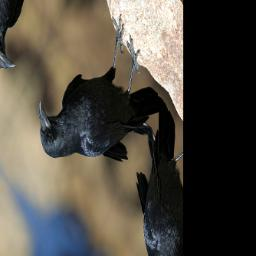Crow: (26, 0, 171, 233)
